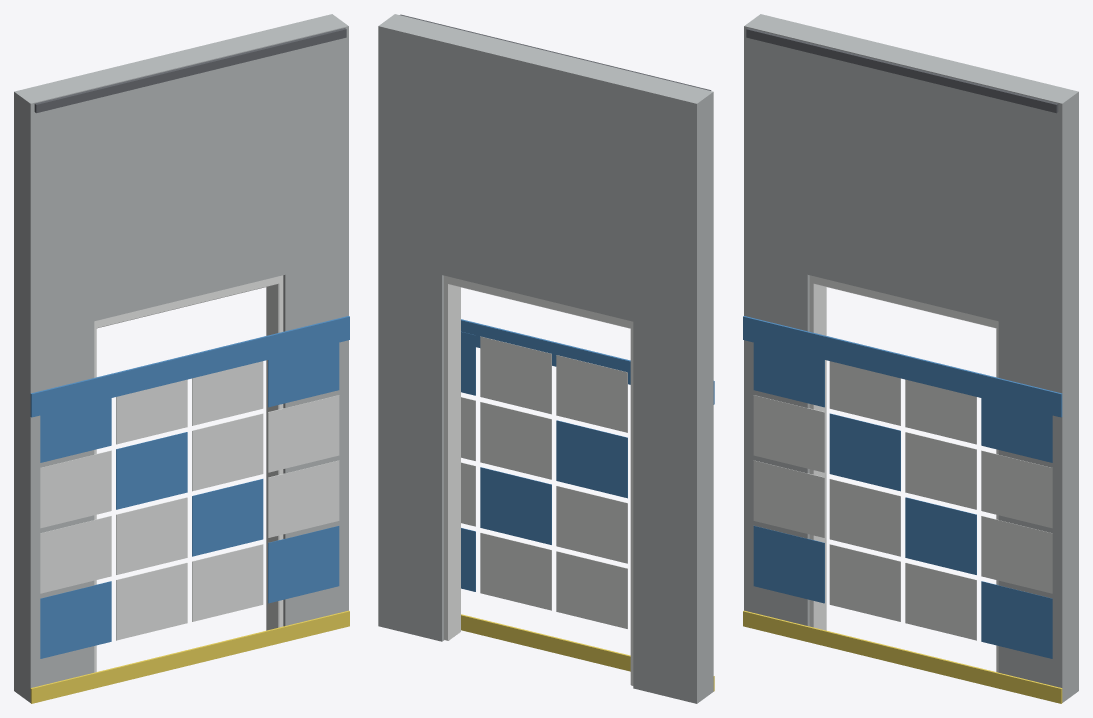
Rendered from public-swimming-baths-and-poolside-baths-wall-module-d-c5e2325c__35242.glb.
The picture shows the model from 3 angles, left to right: view 1: azimuth 30°, elevation 25°; view 2: azimuth 150°, elevation 25°; view 3: azimuth 330°, elevation 25°; orthographic projection.
Parts seen in each view (by area): view 1: baths-wall-module-doorway; view 2: baths-wall-module-doorway; view 3: baths-wall-module-doorway.
Part boxes in pixels (x1,y1,x2,y2): baths-wall-module-doorway: (14,14,349,703); baths-wall-module-doorway: (378,14,714,703); baths-wall-module-doorway: (743,14,1078,703).
Size of the model in its own units: 2 by 3.6 by 0.2001.
